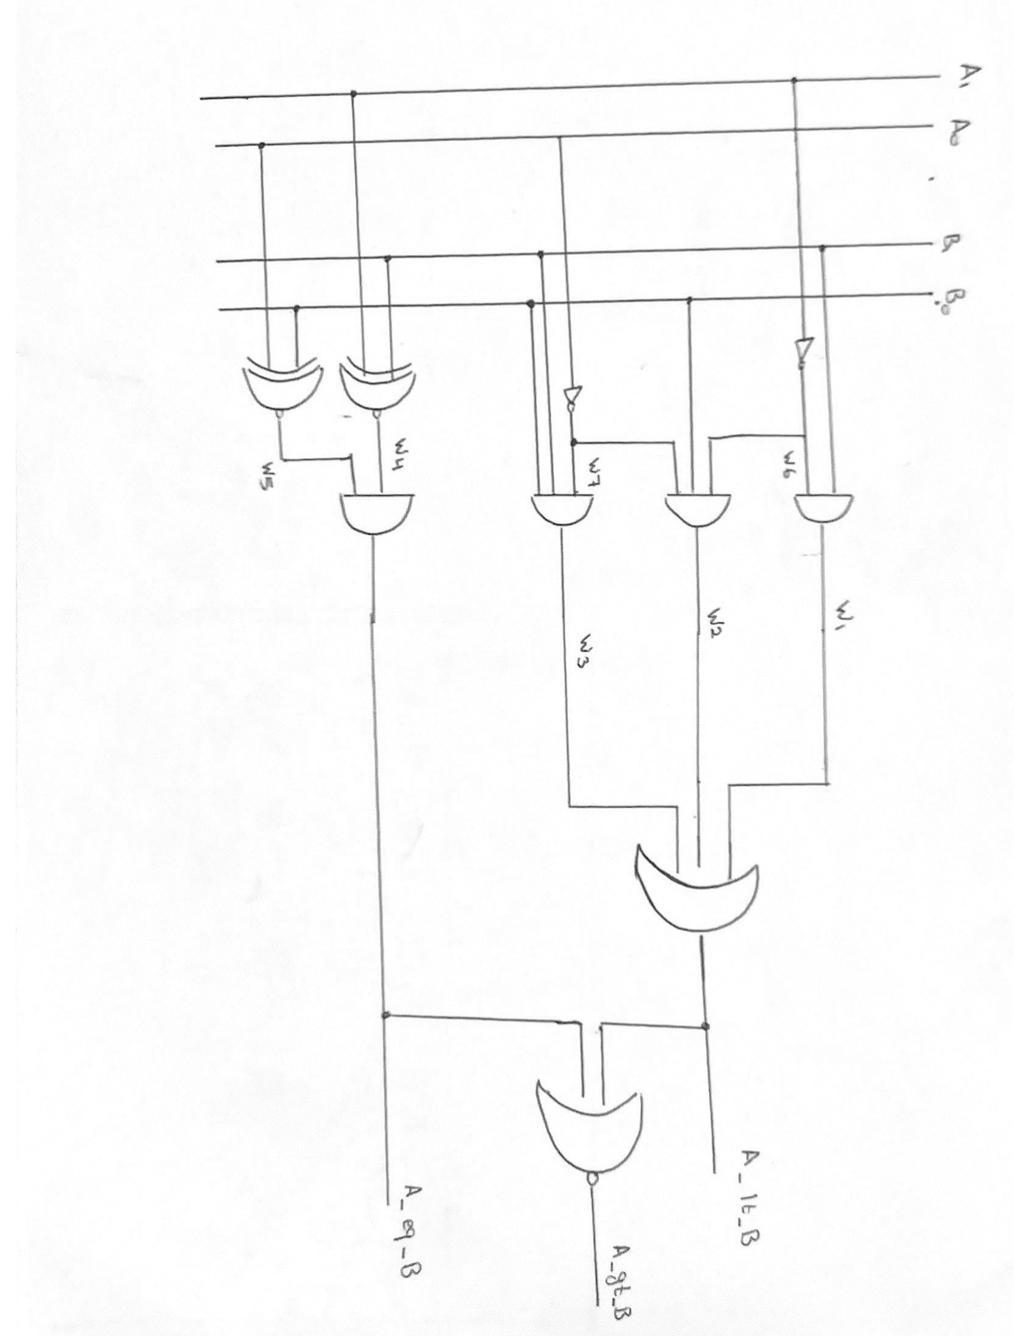AND: (325, 480, 430, 554), (790, 483, 880, 540), (660, 480, 742, 541), (523, 485, 601, 542)
NOR: (520, 1066, 659, 1195)
NOT: (557, 382, 590, 416), (790, 332, 821, 366)
OR: (615, 837, 779, 948)
XNOR: (228, 342, 329, 424), (332, 340, 427, 425)
